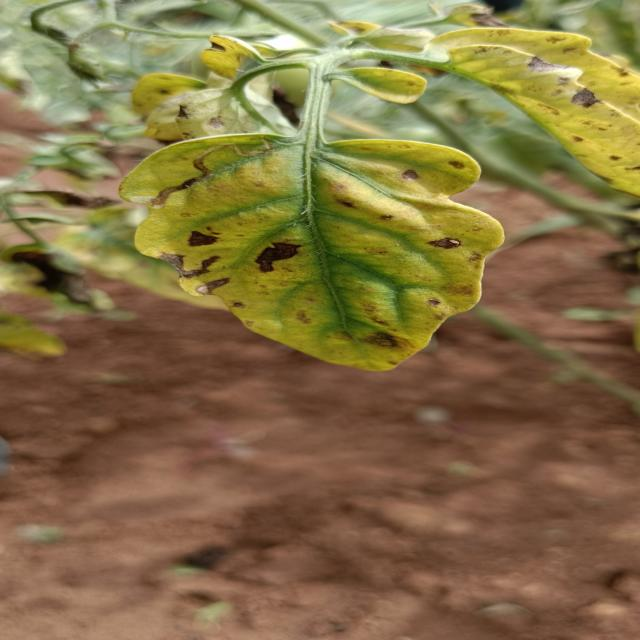tomato_early blight: (119, 133, 502, 370), (422, 27, 640, 196), (112, 36, 342, 161)
